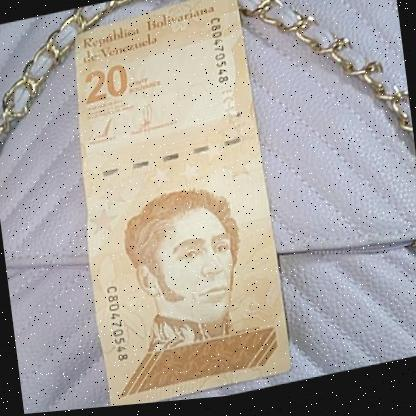vef_front: (57, 0, 295, 412)
